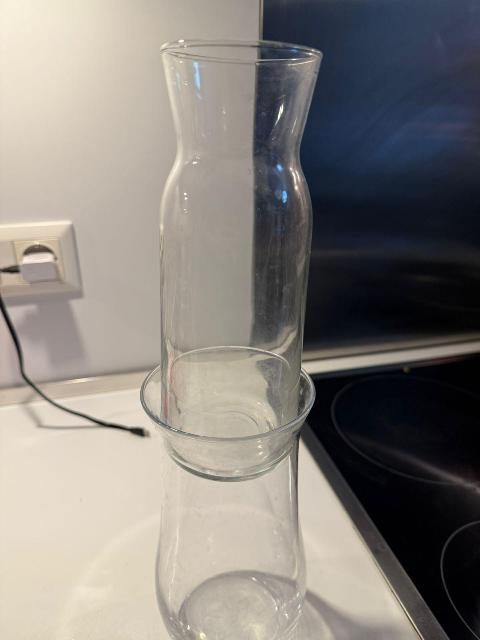Cam: (147, 33, 307, 451), (136, 379, 320, 640)
